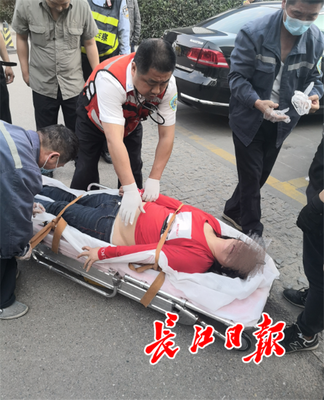fall: (16, 173, 277, 280)
